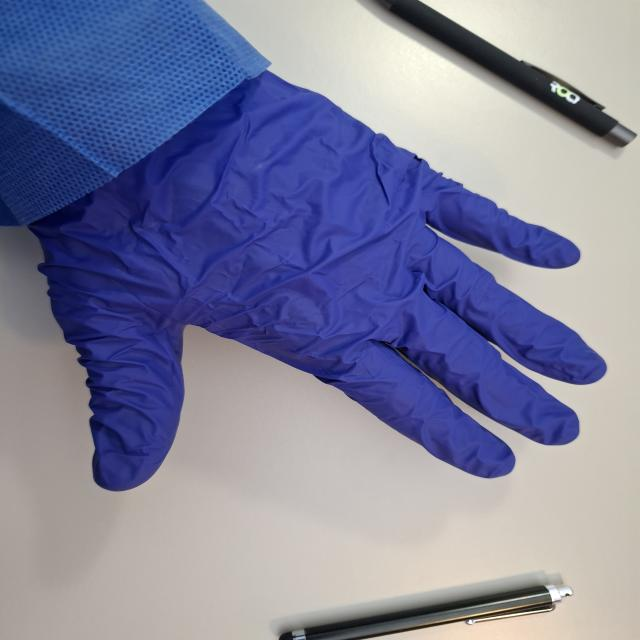glove_on: (20, 61, 612, 495)
